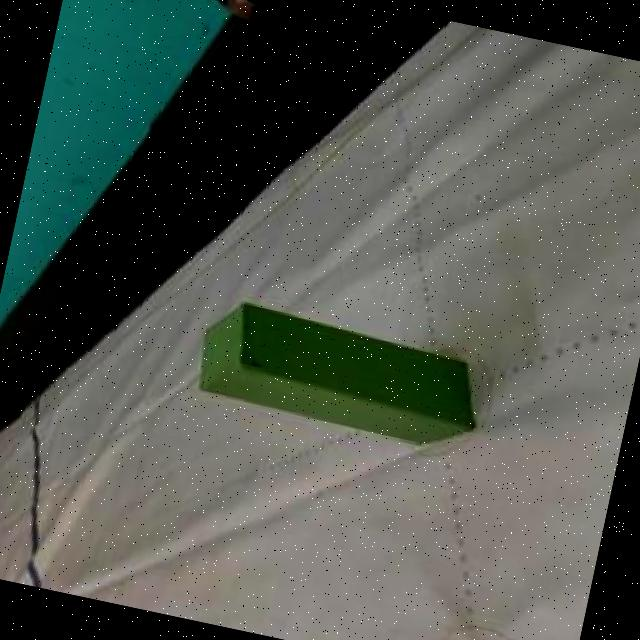greenbox: (181, 290, 494, 460)
